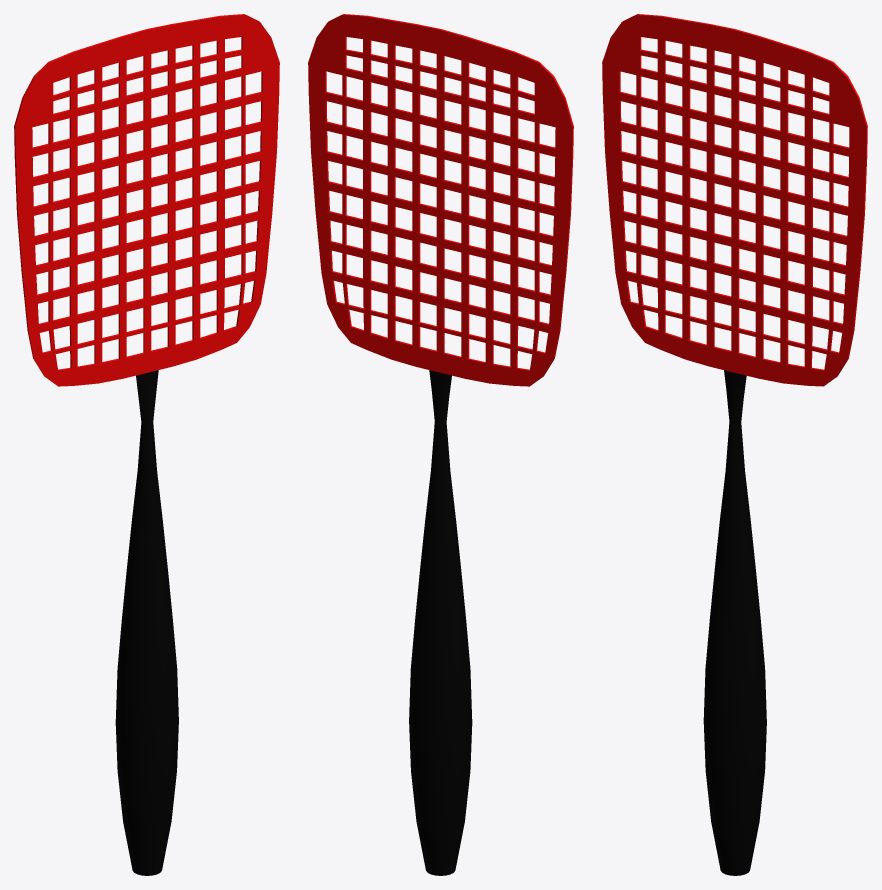
File: flyswatter.FBX
3 views of the same model, side by side, from view 1: azimuth 30°, elevation 25°; view 2: azimuth 150°, elevation 25°; view 3: azimuth 330°, elevation 25° (orthographic).
Visible parts, largest first — view 1: Cylinder001; view 2: Cylinder001; view 3: Cylinder001.
Boxes of the visible parts, bbox=[...] form: Cylinder001: bbox=[14, 14, 279, 875]; Cylinder001: bbox=[308, 14, 573, 875]; Cylinder001: bbox=[602, 14, 867, 875].
Size of the model in its own units: 41.93 by 127 by 8.58.
